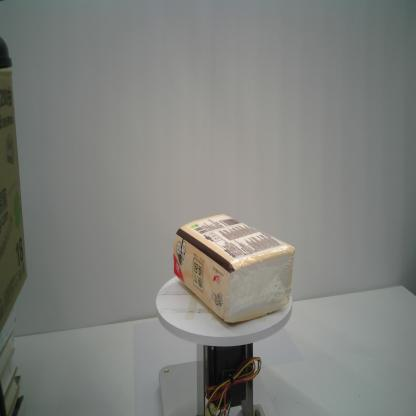Tissue: (172, 213, 295, 324)
